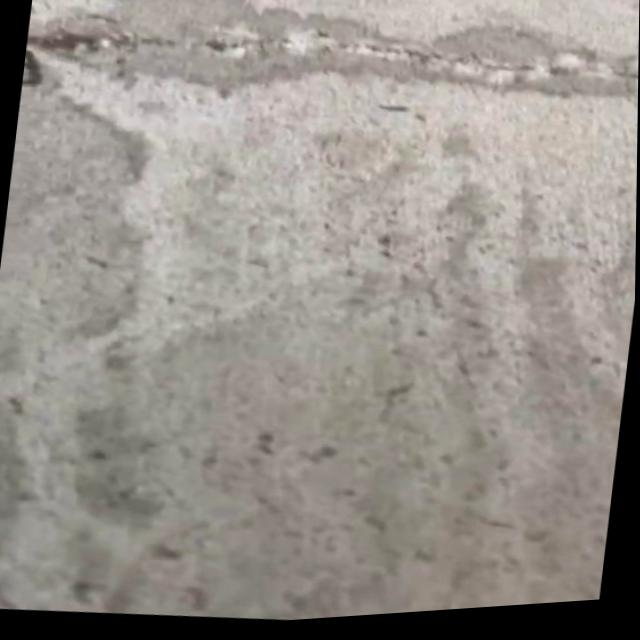Crack: (22, 0, 640, 151)
